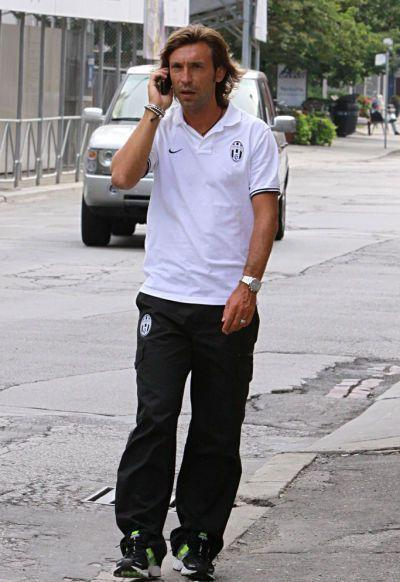person: (112, 23, 280, 580)
